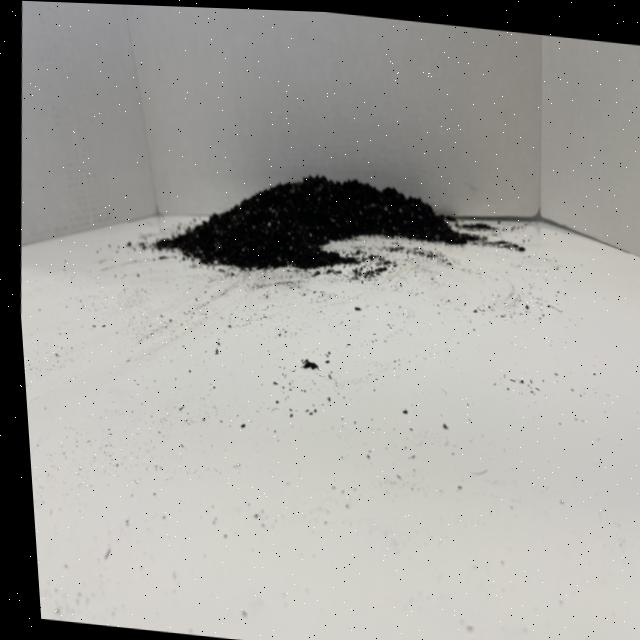soil: (162, 114, 474, 303)
